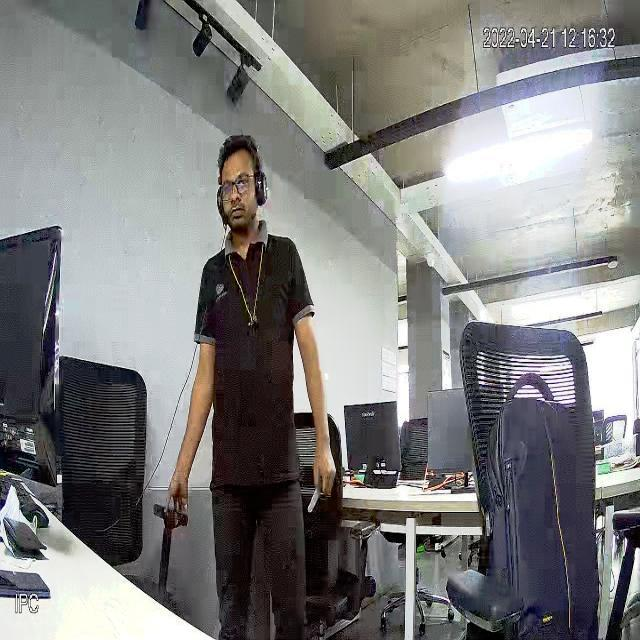Knife: (296, 466, 336, 530)
